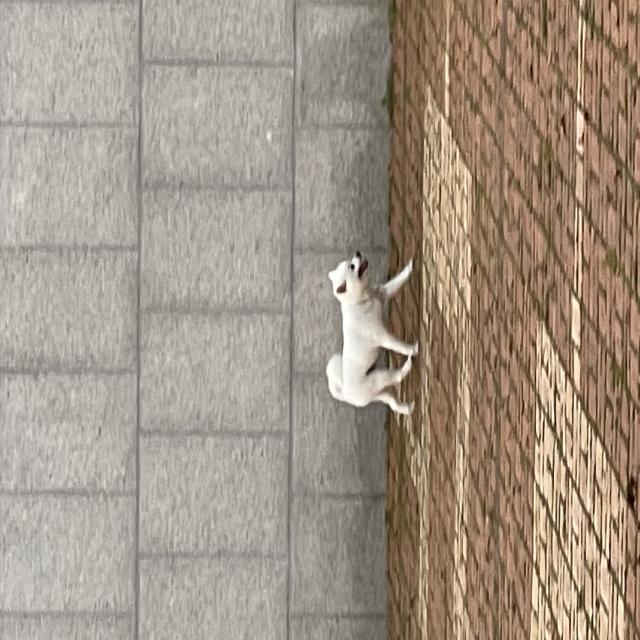Dog: (168, 434, 294, 561)
